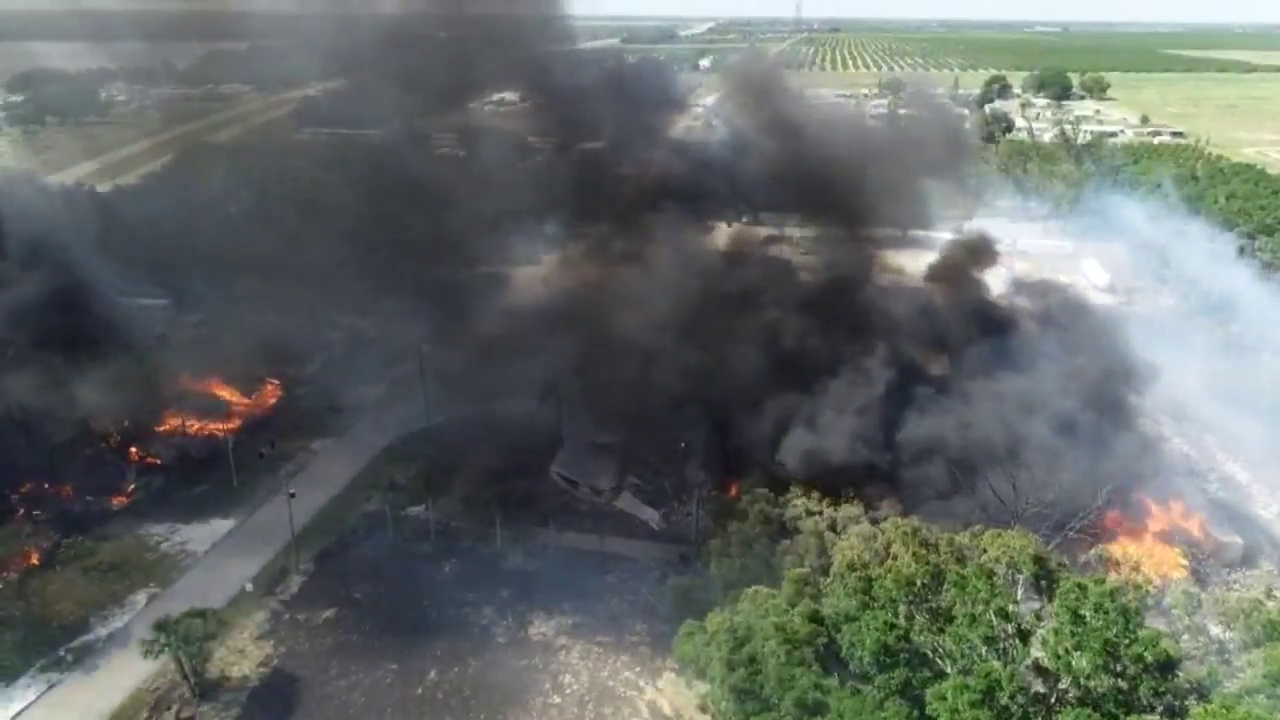forest_fire: (8, 376, 280, 522), (1098, 495, 1214, 581), (153, 375, 281, 435), (0, 544, 44, 573), (89, 509, 91, 510)
